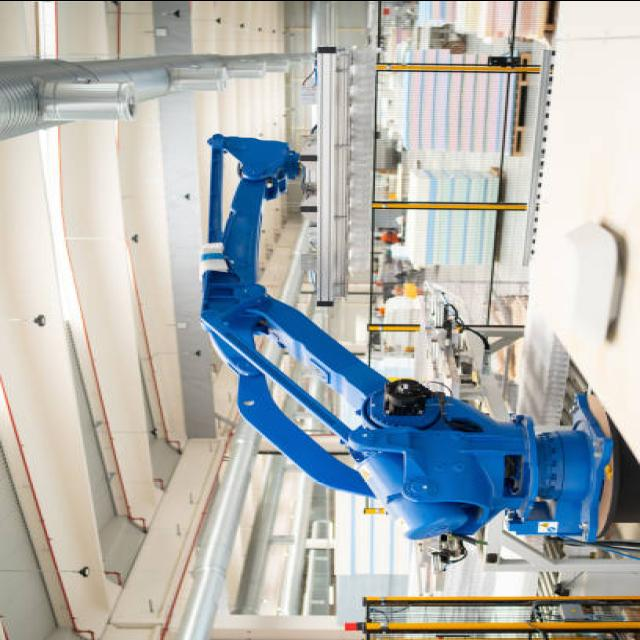Robotic-arm: (187, 117, 611, 551)
